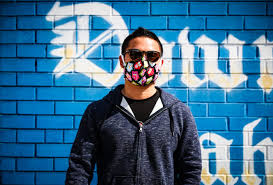mask: (122, 30, 166, 90)
